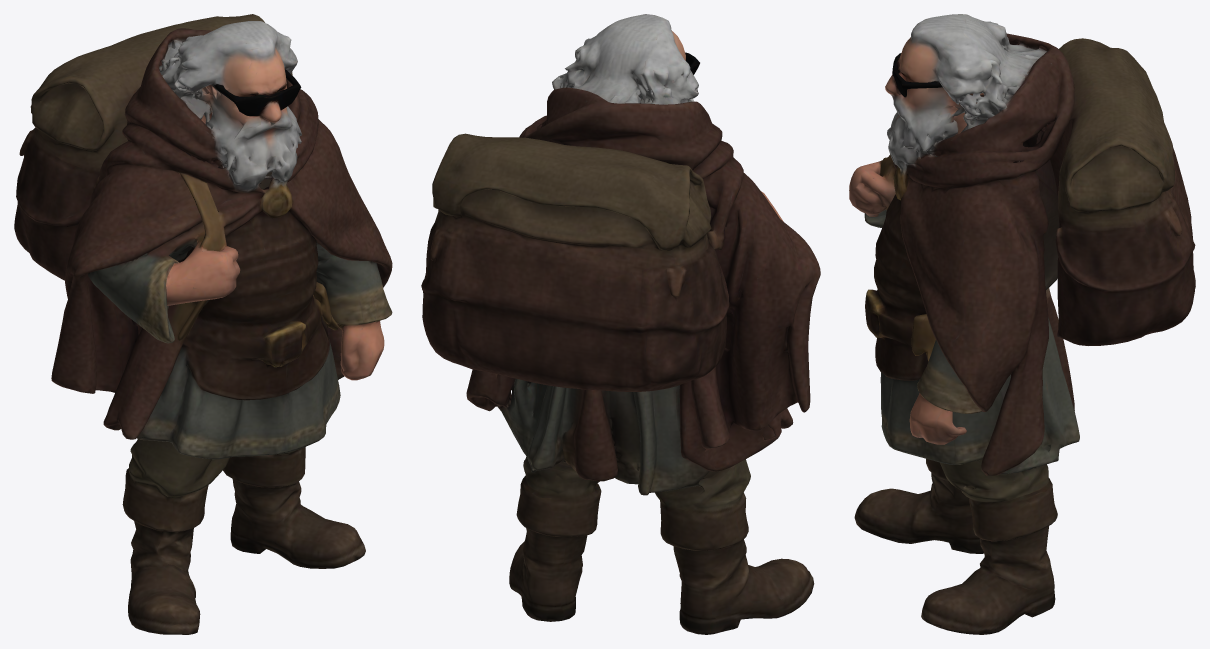
The model's file is generation_2.glb.
3 views of the same model, side by side, from view 1: azimuth 30°, elevation 25°; view 2: azimuth 150°, elevation 25°; view 3: azimuth 270°, elevation 25° (orthographic). The views are drawn at different scales.
Parts seen in each view (by area): view 1: geometry_0; view 2: geometry_0; view 3: geometry_0.
Boxes of the visible parts, x1,y1,x2,y2 form: geometry_0: (14, 14, 392, 634); geometry_0: (421, 14, 820, 634); geometry_0: (849, 14, 1195, 634).
Bounding box in the file's own units: 0.6264 × 1 × 0.5623.
1 material, 1 textured.
